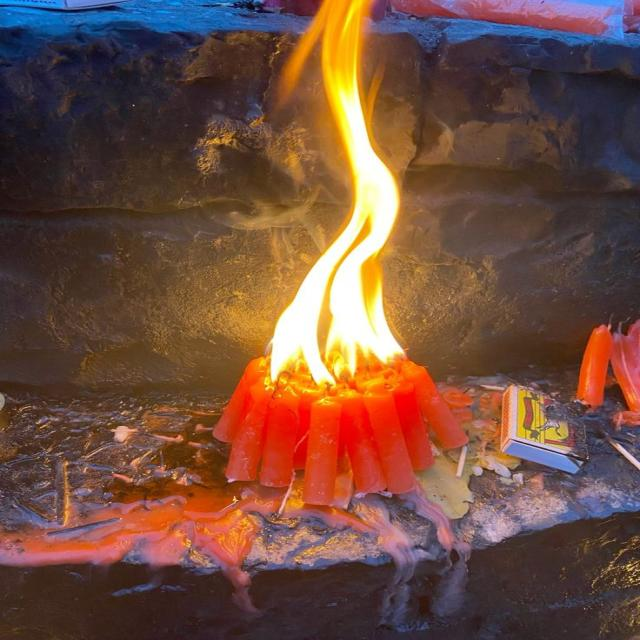fire: (268, 0, 403, 388)
